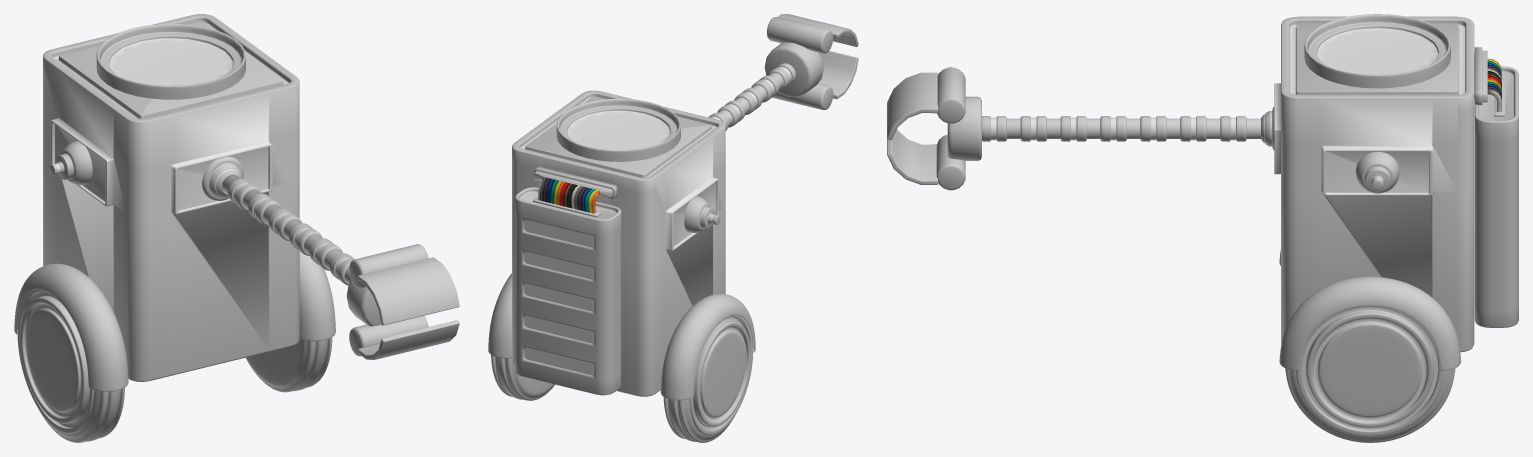
Rendered from Robot.fbx.
The picture shows the model from 3 angles, left to right: view 1: azimuth 30°, elevation 25°; view 2: azimuth 150°, elevation 25°; view 3: azimuth 270°, elevation 25°; orthographic projection. The views are drawn at different scales.
Visible parts, largest first — view 1: Robot, Wheels, Cylinder.001, Arm1, Cylinder.004; view 2: Robot, Wheels, Arm1, Cylinder.001, Cylinder.004; view 3: Robot, Wheels, Arm1, Cylinder.001, Cylinder.004.
Boxes of the visible parts, <box> form: Robot: <box>14,14,335,391</box>; Wheels: <box>17,289,332,442</box>; Cylinder.001: <box>349,244,459,325</box>; Arm1: <box>208,162,381,326</box>; Cylinder.004: <box>349,316,459,359</box>; Robot: <box>488,90,755,400</box>; Wheels: <box>491,315,752,442</box>; Arm1: <box>708,42,823,130</box>; Cylinder.001: <box>767,14,858,53</box>; Cylinder.004: <box>772,51,858,109</box>; Robot: <box>1272,14,1518,370</box>; Wheels: <box>1285,306,1455,442</box>; Arm1: <box>947,96,1272,160</box>; Cylinder.001: <box>887,67,965,140</box>; Cylinder.004: <box>887,129,965,190</box>.
Size of the model in its own units: 649 by 884 by 1468.
